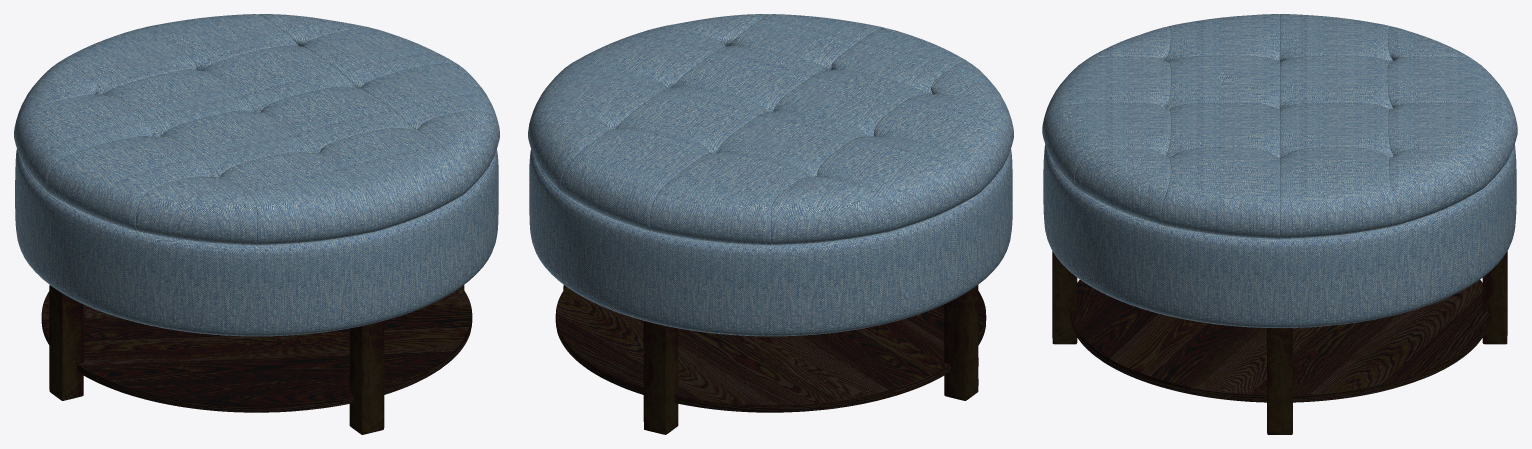
File: RBRS6648.obj
The picture shows the model from 3 angles, left to right: view 1: azimuth 30°, elevation 25°; view 2: azimuth 150°, elevation 25°; view 3: azimuth 270°, elevation 25°; orthographic projection. The views are drawn at different scales.
Visible parts, largest first — view 1: not_clear_obj_2_v6, not_clear_obj_0_v6, not_clear_obj_1_v6; view 2: not_clear_obj_2_v6, not_clear_obj_0_v6, not_clear_obj_1_v6; view 3: not_clear_obj_2_v6, not_clear_obj_0_v6, not_clear_obj_1_v6.
Boxes of the visible parts, x1,y1,x2,y2 form: not_clear_obj_2_v6: [14, 14, 499, 336]; not_clear_obj_0_v6: [41, 287, 472, 412]; not_clear_obj_1_v6: [49, 285, 464, 434]; not_clear_obj_2_v6: [528, 14, 1013, 336]; not_clear_obj_0_v6: [555, 287, 986, 412]; not_clear_obj_1_v6: [563, 285, 978, 434]; not_clear_obj_2_v6: [1042, 14, 1517, 327]; not_clear_obj_0_v6: [1069, 279, 1490, 402]; not_clear_obj_1_v6: [1052, 251, 1507, 434].
Size of what is drawn, in the model's own units: 91.82 by 50.81 by 91.82.
